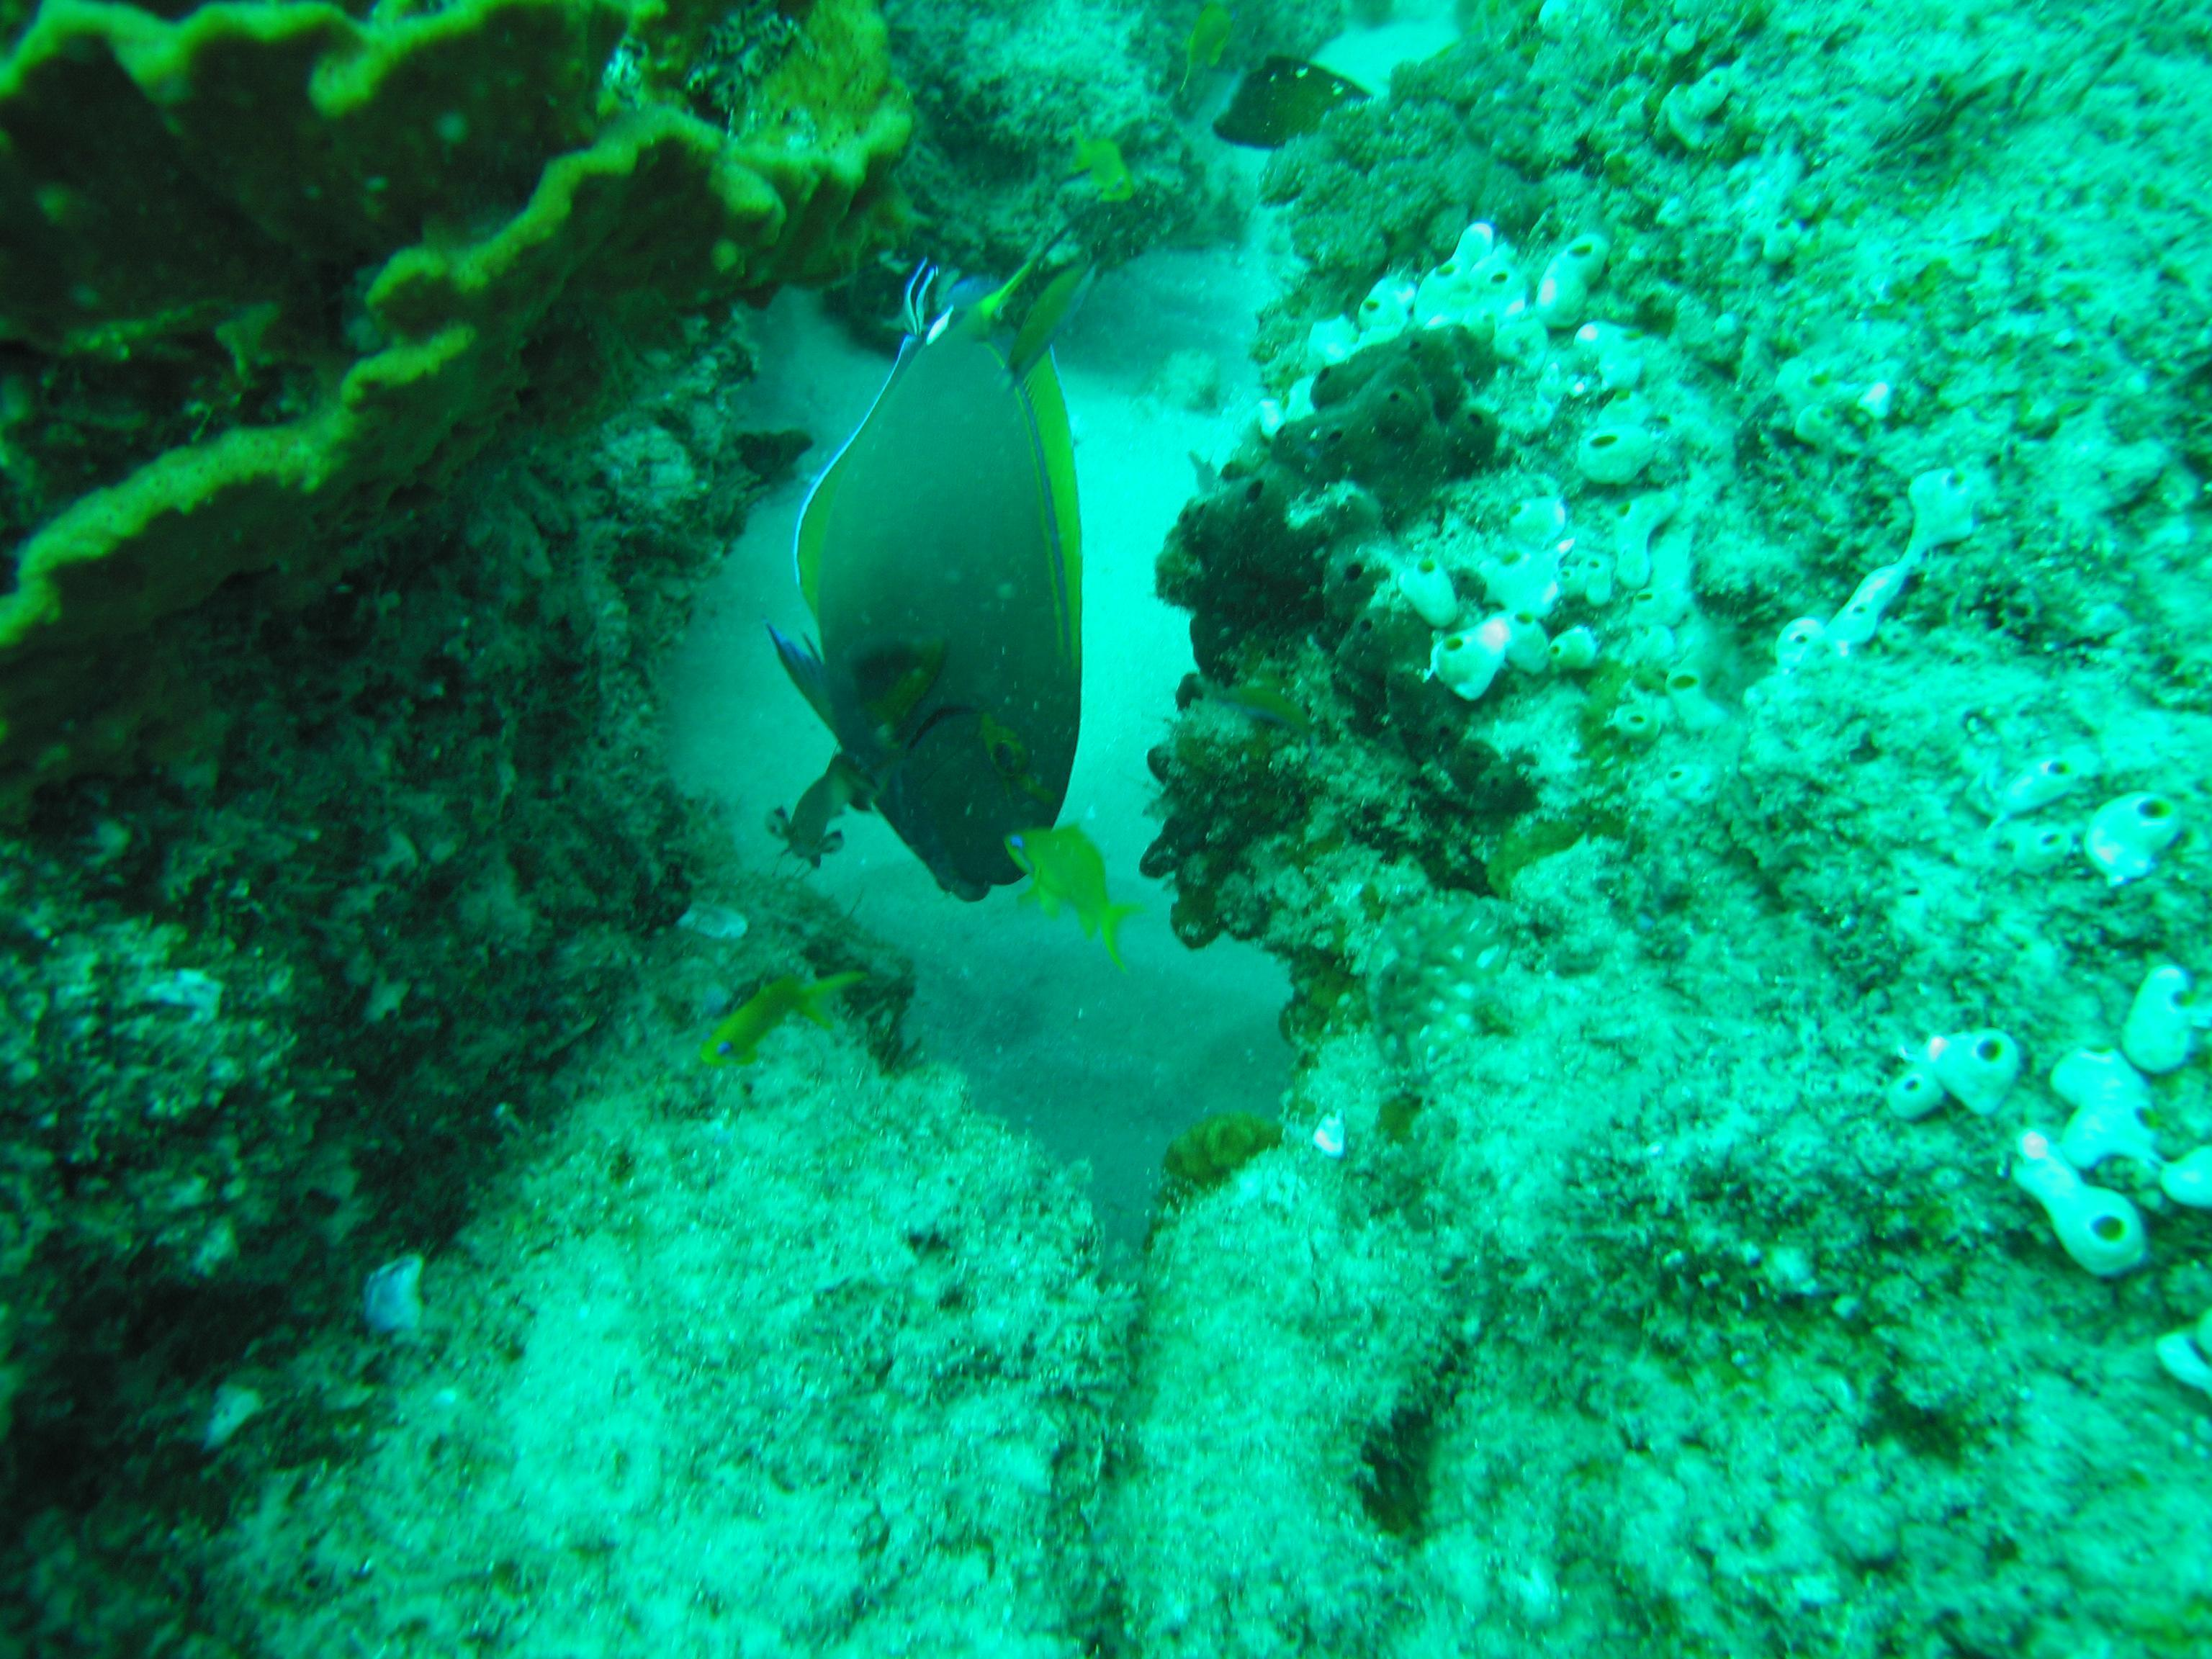Acanthurus dussumieri: (707, 166, 1137, 939)
